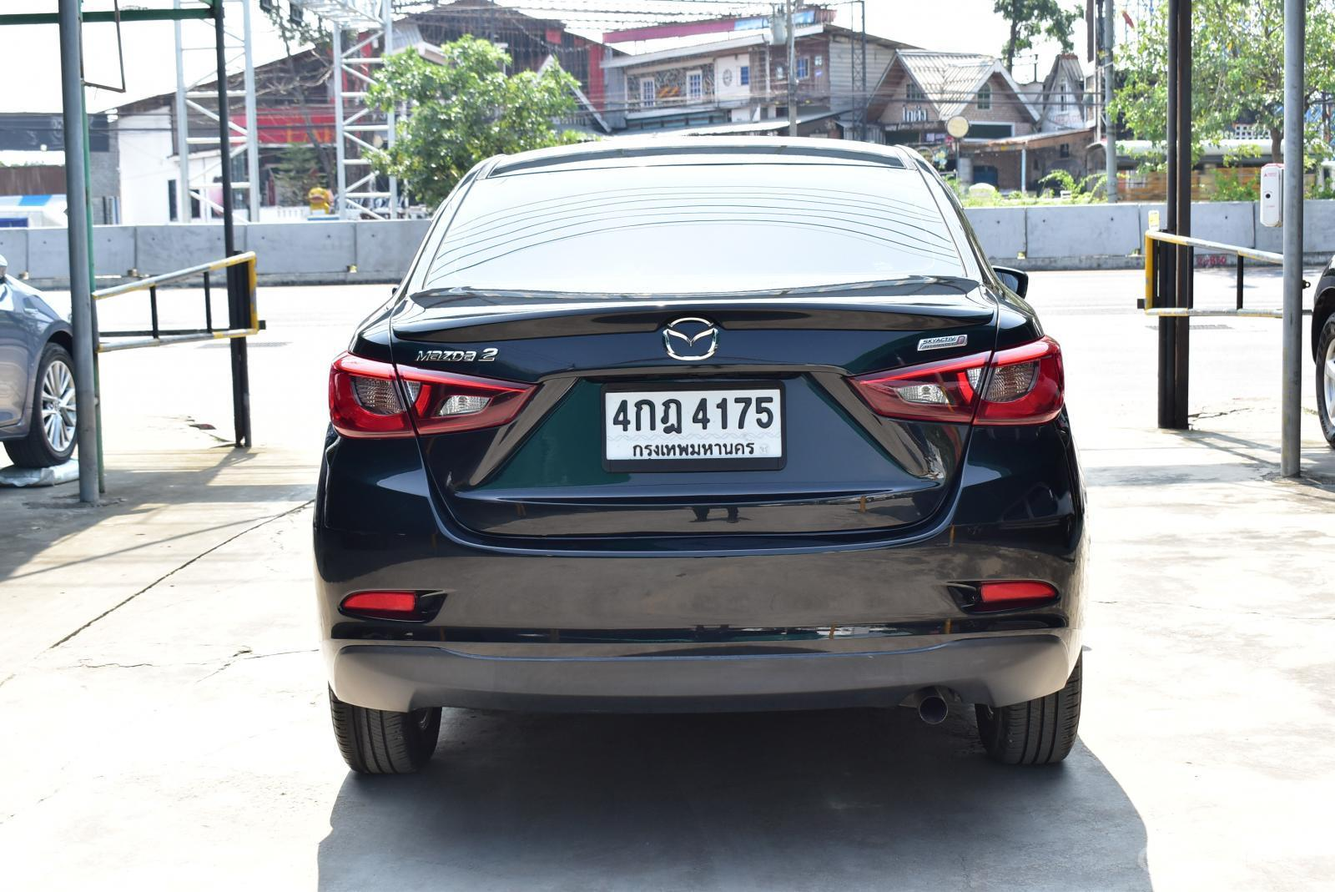license-plate: (599, 379, 790, 471)
